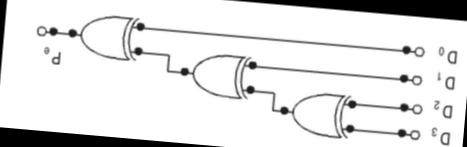xor: (286, 85, 352, 144), (74, 8, 140, 65), (186, 48, 252, 102)
